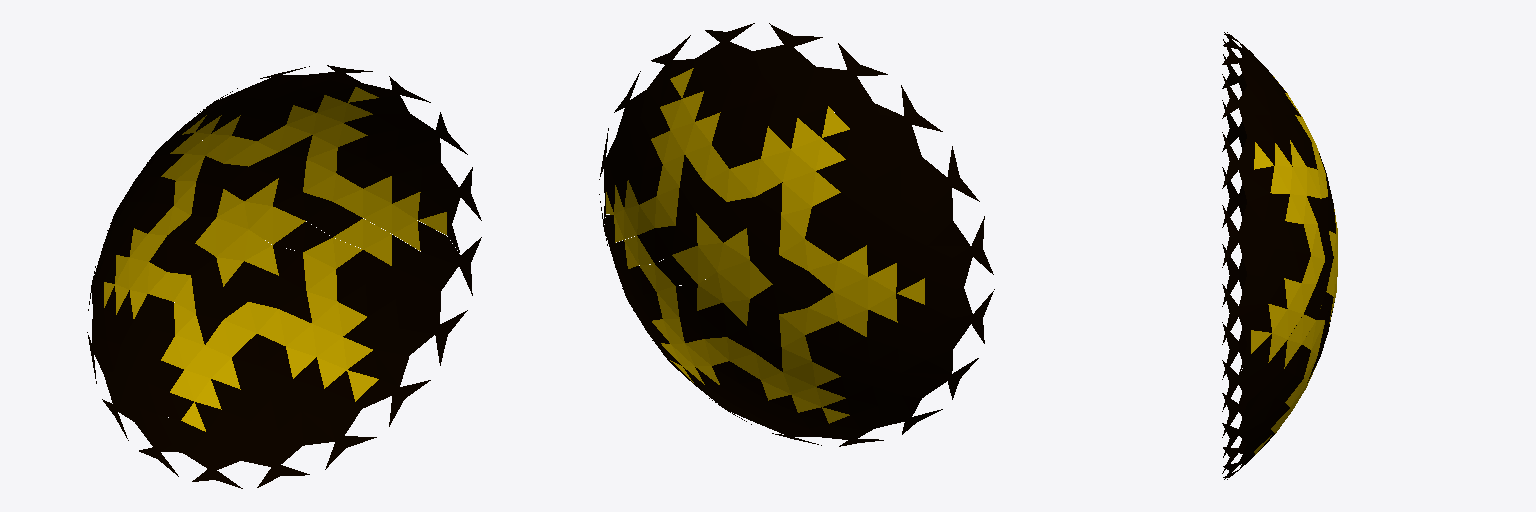
3 views of the same model, side by side, from view 1: azimuth 30°, elevation 25°; view 2: azimuth 150°, elevation 25°; view 3: azimuth 270°, elevation 25° (orthographic).
Visible parts, largest first — view 1: END; view 2: END; view 3: END.
Part boxes in pixels (x1,y1,x2,y2): END: (87, 65, 481, 488); END: (599, 23, 994, 446); END: (1222, 32, 1337, 479).
Size of the model in its own units: 6.83 by 6.76 by 1.73.
1 materials, 1 textured.